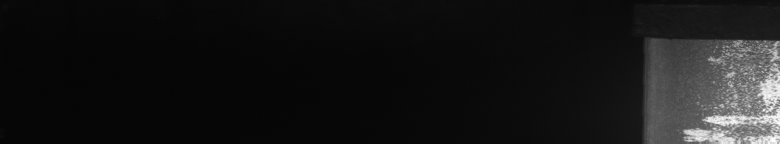kb: (683, 36, 776, 136)
